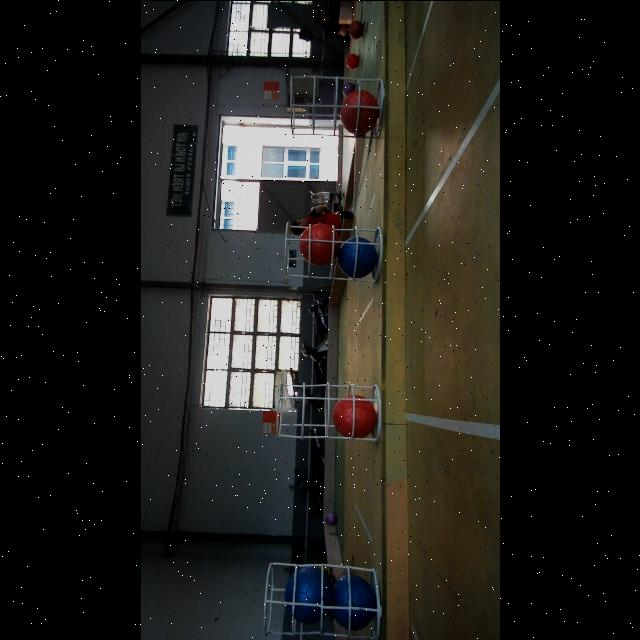B: (285, 566, 331, 622), (332, 572, 376, 630), (337, 237, 377, 277)
R: (332, 394, 376, 438), (339, 90, 379, 134), (299, 223, 339, 265)
